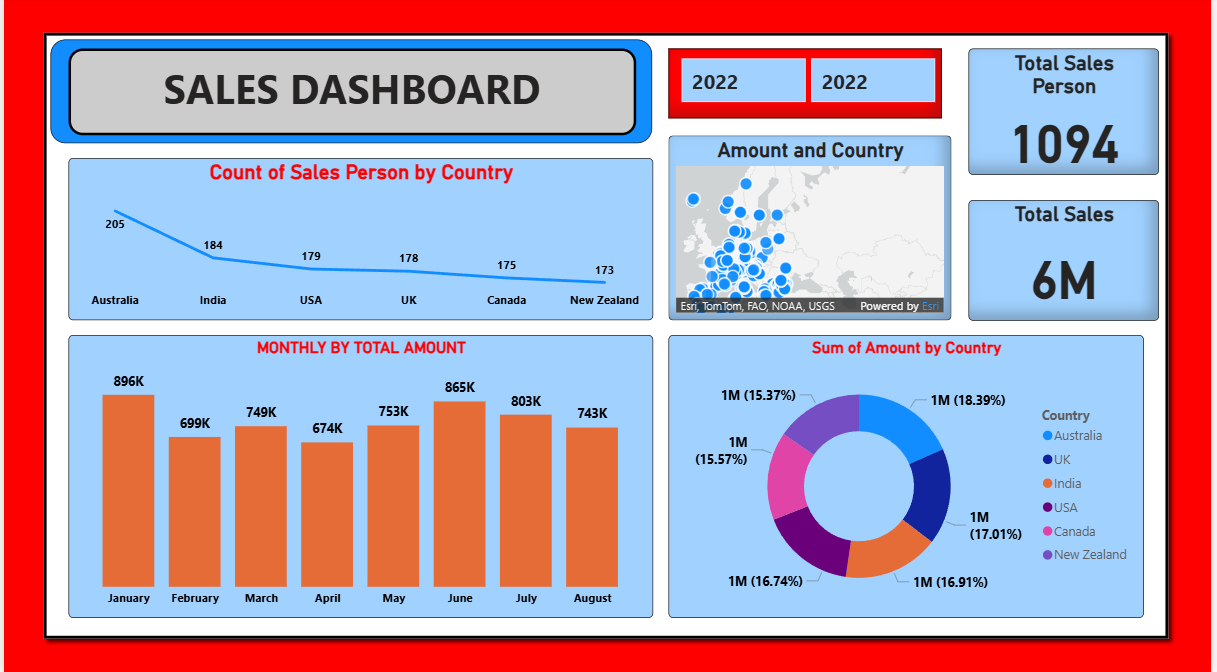

What the dashboard file says about the page in this screenshot:
{"tool":"powerbi","page":{"name":"Page 2","canvas":[1280,720],"ordinal":1},"visuals":[{"type":"shape","box":[34,30,1210,660],"z":0},{"type":"shape","box":[50,46,638,110],"z":1000},{"type":"columnChart","title":"MONTHLY BY TOTAL AMOUNT","fields":{"Category":["data.Date.Variation.Date Hierarchy.Month"],"Y":["Sum(data.Amount)"]},"box":[68,360,620,300],"z":2000},{"type":"donutChart","fields":{"Y":["Sum(data.Amount)"],"Category":["data.Country"]},"box":[704,360,504,300],"z":3000},{"type":"textbox","box":[68,56,602,92],"z":4000},{"type":"lineChart","fields":{"Category":["data.Country"],"Y":["CountNonNull(data.Sales Person)"]},"box":[68,172,620,172],"z":5000},{"type":"card","title":"Total Sales","fields":{"Values":["Sum(data.Amount)"]},"box":[1022,216,202,128],"z":6000},{"type":"card","title":"Total Sales Person","fields":{"Values":["CountNonNull(data.Sales Person)"]},"box":[1022,56,202,134],"z":6001},{"type":"slicer","fields":{"Values":["data.Date.Variation.Date Hierarchy.Year"]},"box":[704,56,290,74],"z":6002},{"type":"esriVisual","fields":{"Location":["data.Amount"],"Latitude":["data.Country"]},"box":[704,148,300,196],"z":6003}]}

Visuals, with their boxes in screenshot pixels (x1, y1, x2, y2), scaled from the page's 1280x720 canvas onto the 1217x672 screenshot:
shape: pyautogui.locateOnScreen(32, 28, 1183, 644)
shape: pyautogui.locateOnScreen(48, 43, 654, 146)
"MONTHLY BY TOTAL AMOUNT" columnChart: pyautogui.locateOnScreen(65, 336, 654, 616)
donutChart - Sum(data.Amount) x data.Country: pyautogui.locateOnScreen(669, 336, 1149, 616)
textbox: pyautogui.locateOnScreen(65, 52, 637, 138)
lineChart - data.Country x CountNonNull(data.Sales Person): pyautogui.locateOnScreen(65, 161, 654, 321)
"Total Sales" card: pyautogui.locateOnScreen(972, 202, 1164, 321)
"Total Sales Person" card: pyautogui.locateOnScreen(972, 52, 1164, 177)
slicer - data.Date.Variation.Date Hierarchy.Year: pyautogui.locateOnScreen(669, 52, 945, 121)
esriVisual - data.Amount x data.Country: pyautogui.locateOnScreen(669, 138, 955, 321)
